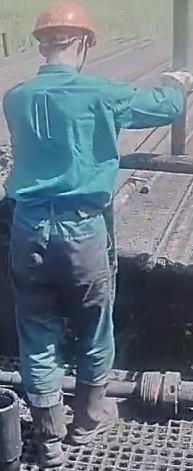gloves: (160, 67, 193, 94)
helmet: (31, 2, 98, 47)
vest: (4, 71, 130, 220)
